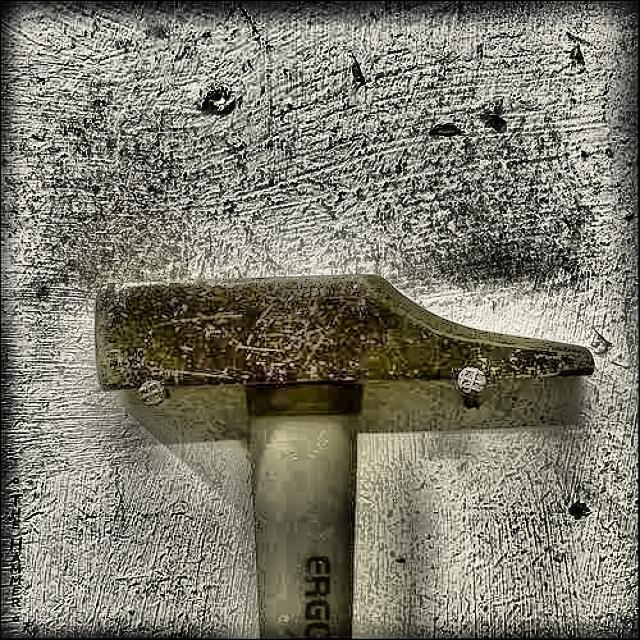hammer: (88, 269, 597, 639)
